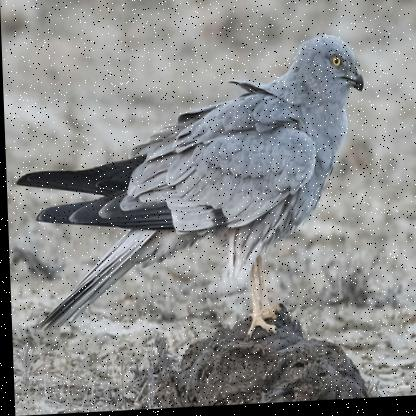Burung: (17, 35, 372, 378)
